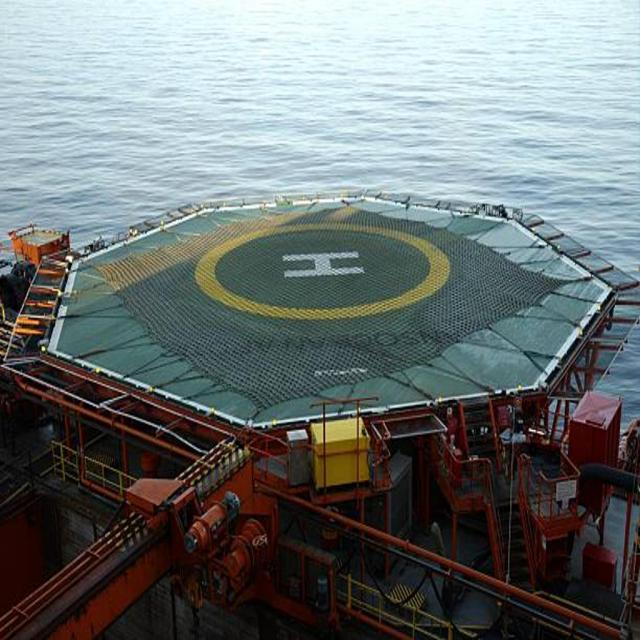helipad: (194, 221, 452, 320)
